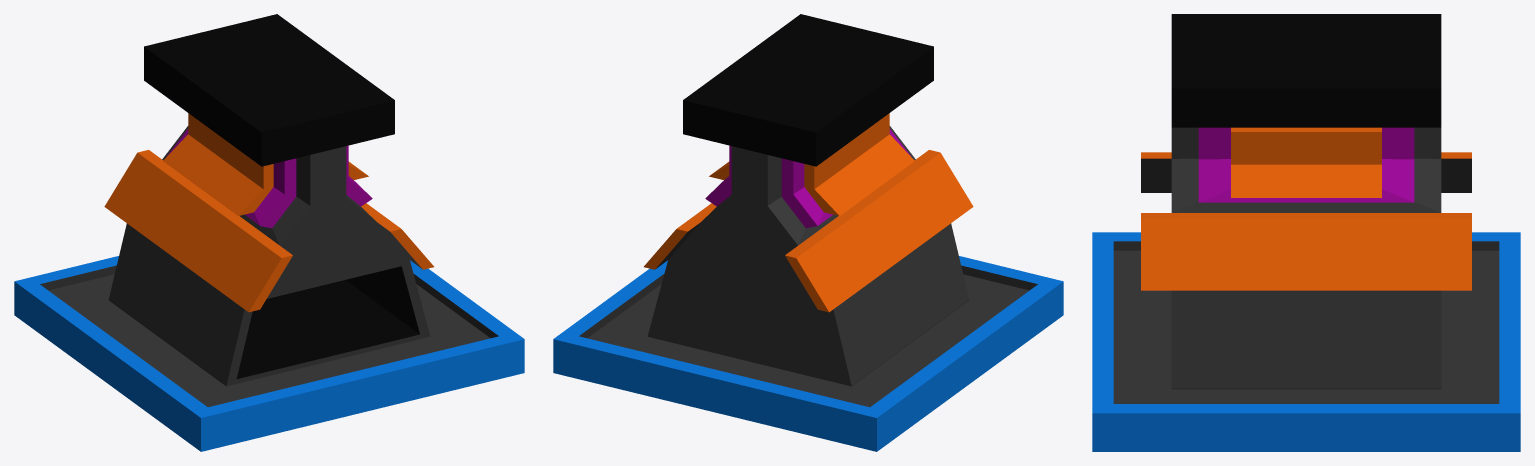
The model's file is building_lumber.fbx.
The picture shows the model from 3 angles, left to right: view 1: azimuth 30°, elevation 25°; view 2: azimuth 150°, elevation 25°; view 3: azimuth 270°, elevation 25°; orthographic projection. The views are drawn at different scales.
Visible parts, largest first — view 1: Lumber; view 2: Lumber; view 3: Lumber.
Part boxes in pixels (x1,y1,x2,y2): Lumber: (14,14,524,451); Lumber: (553,14,1063,451); Lumber: (1092,14,1520,451).
Size of the model in its own units: 200 by 160 by 200.
